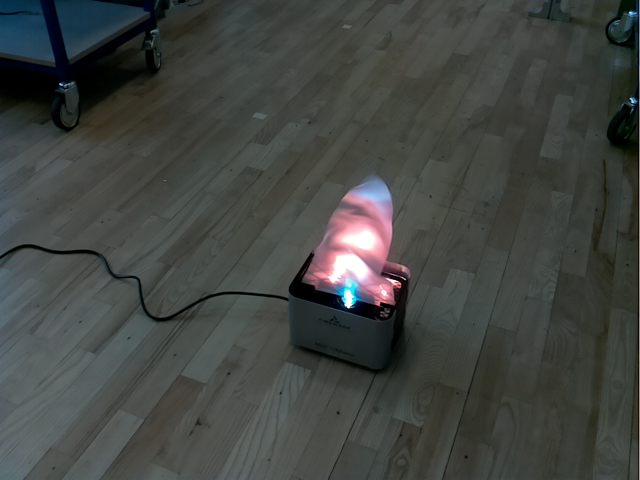fire: (300, 177, 396, 307)
